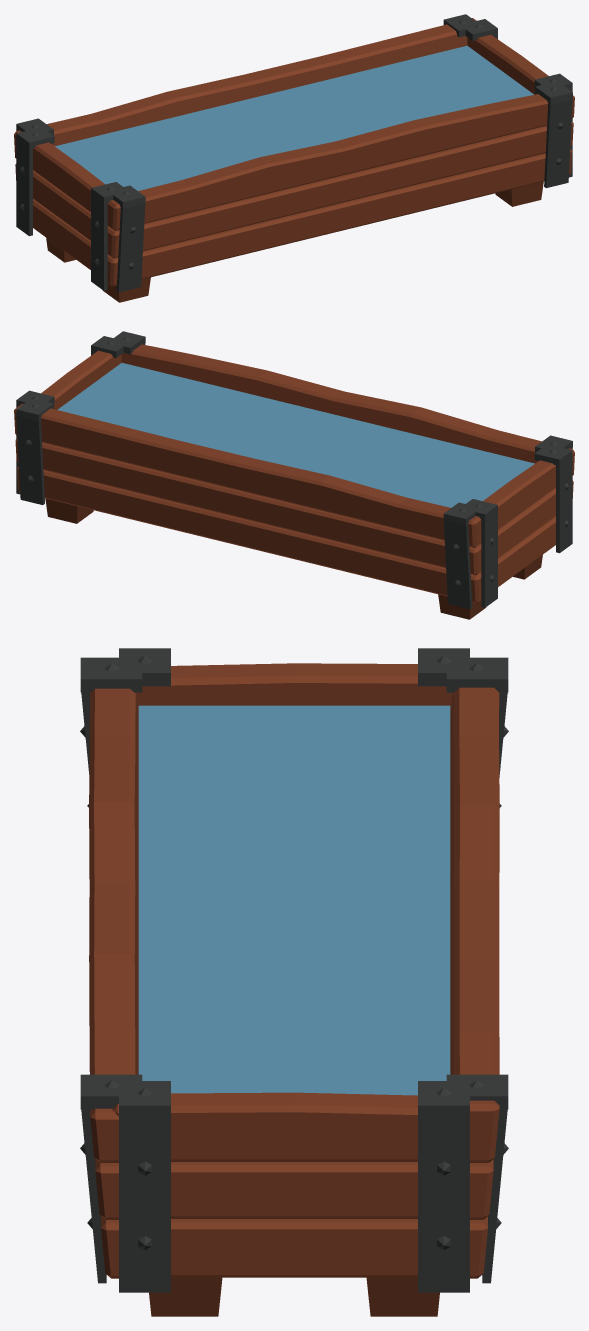
The model's file is full.glb.
3 views of the same model, one above another, from view 1: azimuth 30°, elevation 25°; view 2: azimuth 150°, elevation 25°; view 3: azimuth 270°, elevation 25° (orthographic). The views are drawn at different scales.
Visible parts, largest first — view 1: walls, water, straps, feet; view 2: walls, water, straps, feet; view 3: water, walls, straps, feet.
Boxes of the visible parts, left/top/right/bottom form: walls: left=14, top=18, right=574, bottom=286; water: left=55, top=45, right=533, bottom=190; straps: left=16, top=14, right=572, bottom=292; feet: left=46, top=181, right=543, bottom=302; walls: left=14, top=344, right=574, bottom=603; water: left=57, top=363, right=534, bottom=507; straps: left=16, top=331, right=572, bottom=609; feet: left=45, top=498, right=542, bottom=619; water: left=138, top=705, right=450, bottom=1095; walls: left=89, top=663, right=499, bottom=1278; straps: left=80, top=648, right=508, bottom=1292; feet: left=149, top=1277, right=439, bottom=1316.
Size of the model in its own units: 1.8 by 0.434 by 0.7047.
